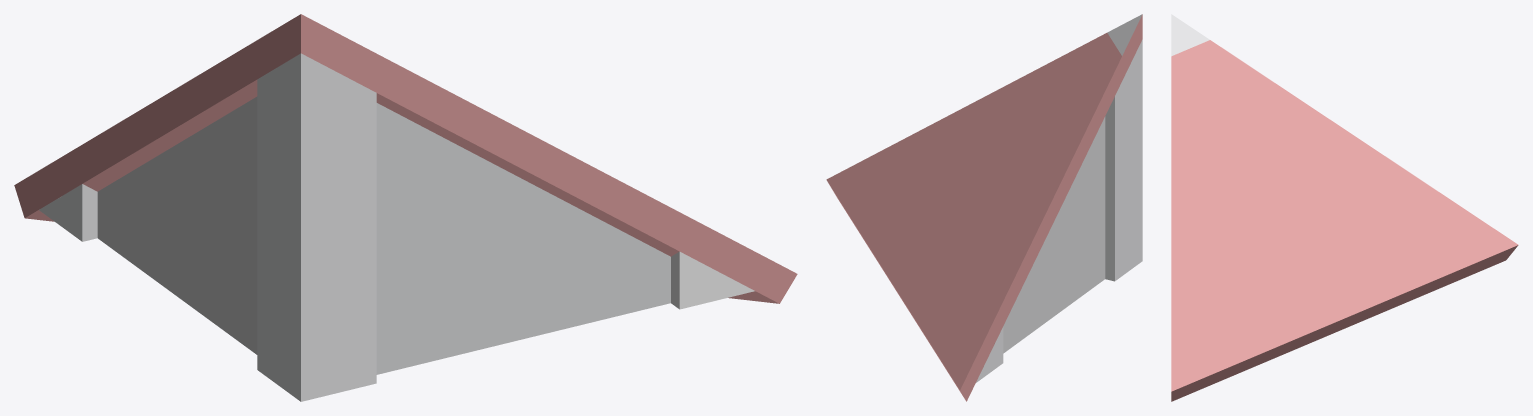
The model's file is Roof_Corner_Red_01.glb.
3 views of the same model, side by side, from view 1: azimuth 30°, elevation 25°; view 2: azimuth 150°, elevation 25°; view 3: azimuth 270°, elevation 25° (orthographic). The views are drawn at different scales.
Parts seen in each view (by area): view 1: Roof_Corner_Red_01; view 2: Roof_Corner_Red_01; view 3: Roof_Corner_Red_01.
Boxes of the visible parts, x1,y1,x2,y2 form: Roof_Corner_Red_01: (14, 14, 797, 401); Roof_Corner_Red_01: (826, 14, 1142, 401); Roof_Corner_Red_01: (1171, 14, 1518, 401).
Size of the model in its own units: 3.28 by 2.57 by 3.28.
